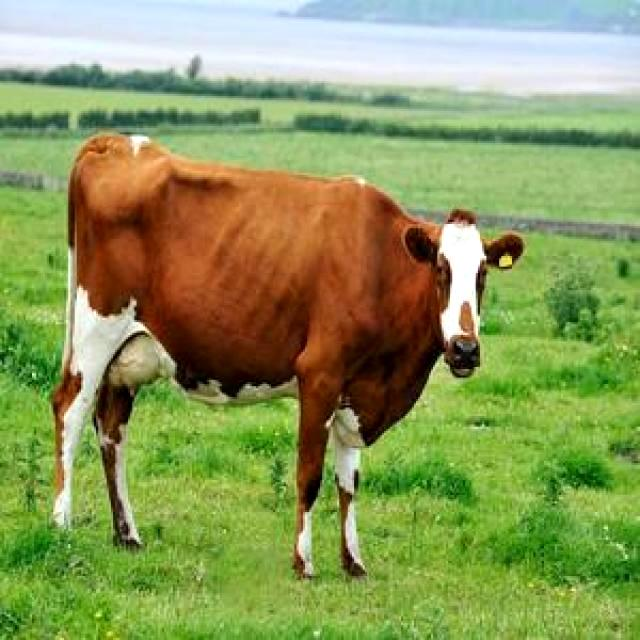COW: (52, 135, 524, 578)
